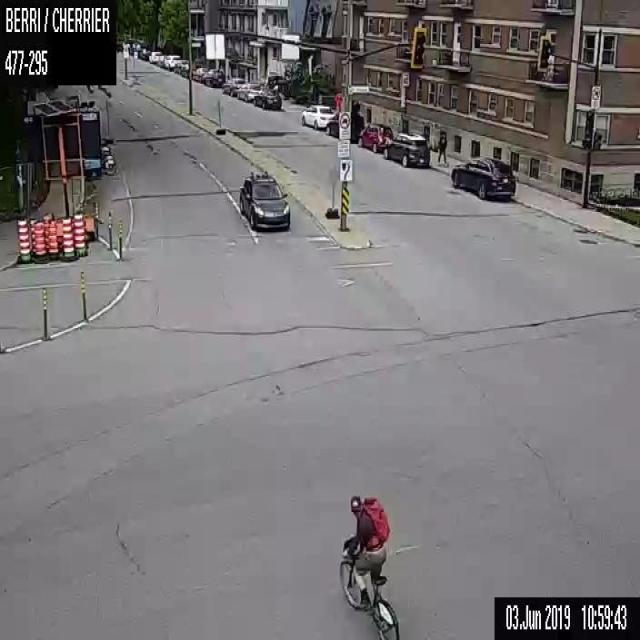construction: (20, 96, 100, 245), (61, 216, 76, 262), (325, 167, 338, 217), (16, 217, 30, 263), (74, 211, 86, 256), (212, 95, 224, 133), (35, 220, 45, 262), (79, 270, 87, 322), (42, 213, 50, 252), (49, 219, 57, 258), (29, 216, 36, 254), (42, 287, 47, 340), (116, 220, 122, 259), (107, 209, 112, 251), (334, 92, 342, 105)
cyclist: (338, 494, 399, 638)
pedestrian: (437, 131, 448, 164)
vehicle: (237, 170, 290, 231), (450, 156, 515, 201), (384, 132, 429, 167), (325, 111, 364, 138), (358, 122, 392, 152), (300, 104, 335, 128), (253, 88, 281, 108), (236, 82, 262, 101), (202, 67, 224, 87), (220, 77, 244, 95), (163, 54, 180, 70), (191, 66, 208, 81), (174, 59, 188, 73), (148, 50, 163, 63), (138, 48, 150, 59), (180, 63, 188, 77)
